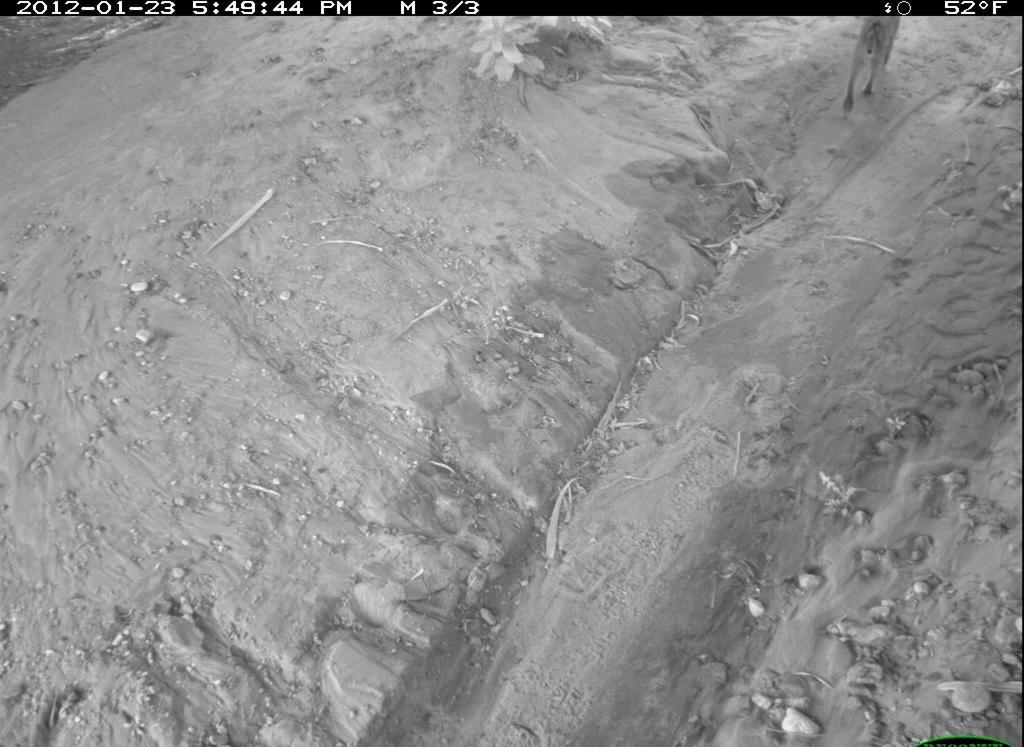bobcat: (822, 6, 916, 117)
